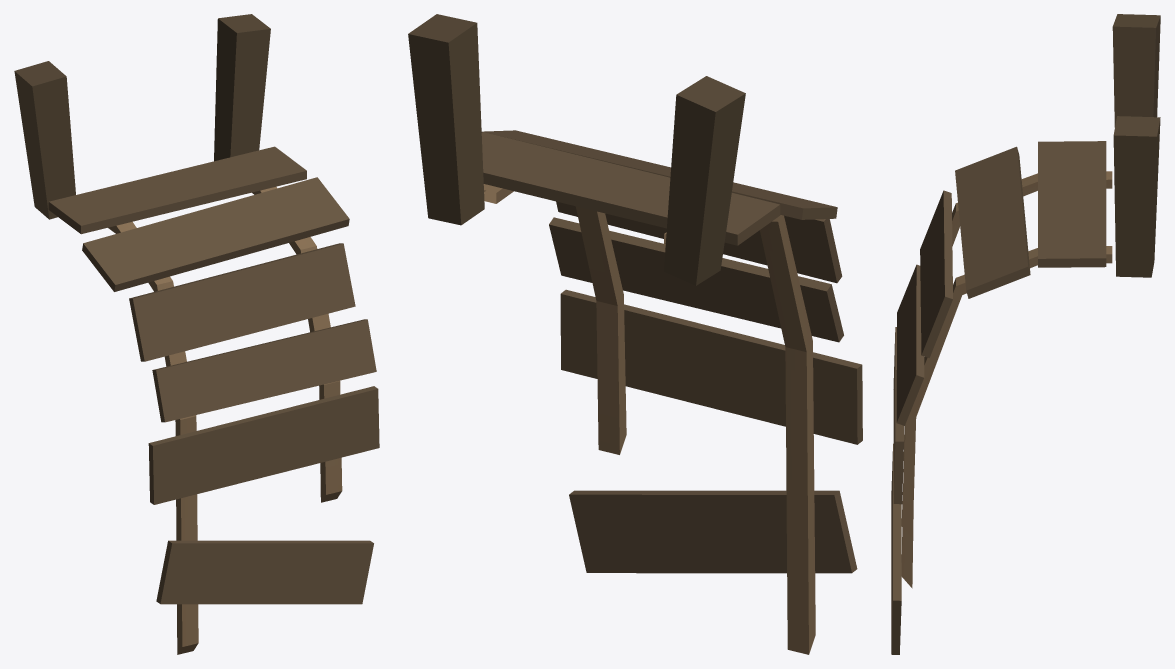
File: Bridge-C02.fbx
The picture shows the model from 3 angles, left to right: view 1: azimuth 30°, elevation 25°; view 2: azimuth 150°, elevation 25°; view 3: azimuth 270°, elevation 25°; orthographic projection. The views are drawn at different scales.
Visible parts, largest first — view 1: Bridge-C02; view 2: Bridge-C02; view 3: Bridge-C02.
Boxes of the visible parts, x1,y1,x2,y2 form: Bridge-C02: [14, 14, 379, 654]; Bridge-C02: [408, 14, 862, 654]; Bridge-C02: [891, 14, 1160, 654].
Size of the model in its own units: 297 by 592 by 265.
